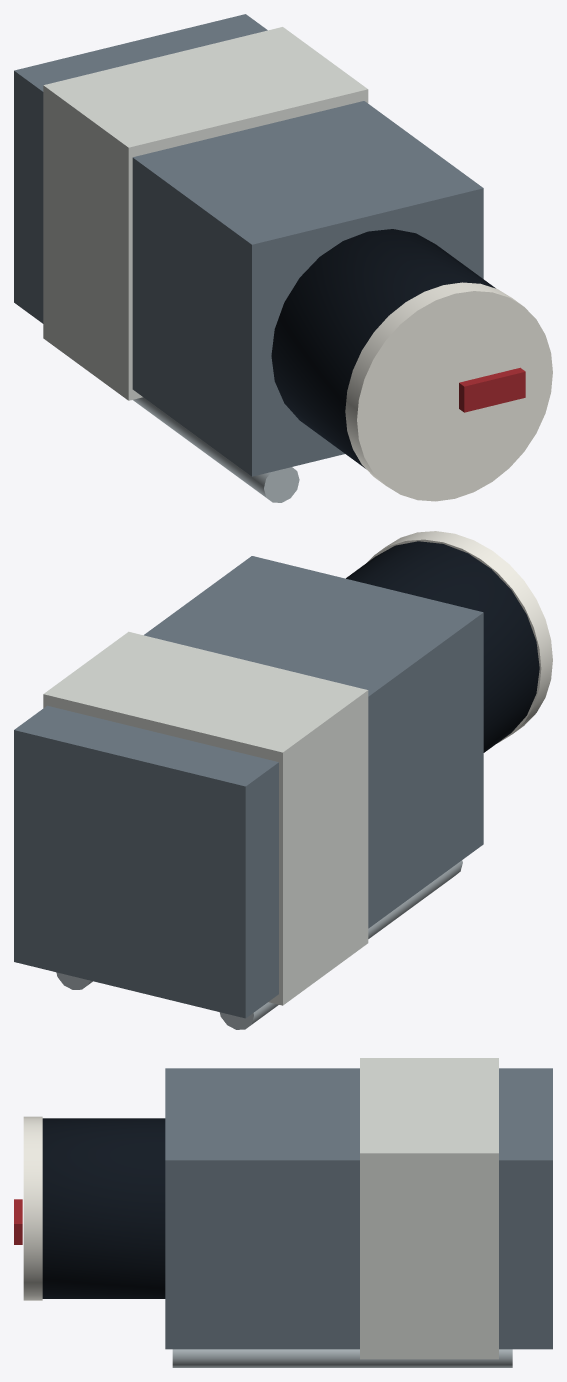
The model's file is dart_draco_camera.glb.
3 views of the same model, one above another, from view 1: azimuth 30°, elevation 25°; view 2: azimuth 150°, elevation 25°; view 3: azimuth 270°, elevation 25° (orthographic). The views are drawn at different scales.
Parts seen in each view (by area): view 1: dart_dracomesh_Machined_steel, dart_dracomesh_Pale_thermal_blanket, dart_dracocovermesh_Warm_white_enamel, dart_dracotelescopemesh_Shadowed_interior, dart_dracomesh_Satin_aluminum, dart_dracocovermesh_Red_equipment_marking; view 2: dart_dracomesh_Machined_steel, dart_dracomesh_Pale_thermal_blanket, dart_dracotelescopemesh_Shadowed_interior, dart_dracocovermesh_Warm_white_enamel, dart_dracomesh_Satin_aluminum; view 3: dart_dracomesh_Machined_steel, dart_dracomesh_Pale_thermal_blanket, dart_dracotelescopemesh_Shadowed_interior, dart_dracomesh_Satin_aluminum, dart_dracocovermesh_Warm_white_enamel, dart_dracocovermesh_Red_equipment_marking.
Boxes of the visible parts, box(x1,y1,x2,y2) form: dart_dracomesh_Machined_steel: box(14, 14, 483, 476); dart_dracomesh_Pale_thermal_blanket: box(43, 27, 368, 400); dart_dracocovermesh_Warm_white_enamel: box(345, 282, 552, 501); dart_dracotelescopemesh_Shadowed_interior: box(271, 229, 495, 468); dart_dracomesh_Satin_aluminum: box(133, 397, 299, 502); dart_dracocovermesh_Red_equipment_marking: box(459, 367, 525, 412); dart_dracomesh_Machined_steel: box(14, 556, 483, 1018); dart_dracomesh_Pale_thermal_blanket: box(43, 631, 368, 1005); dart_dracotelescopemesh_Shadowed_interior: box(346, 541, 539, 752); dart_dracocovermesh_Warm_white_enamel: box(367, 531, 552, 743); dart_dracomesh_Satin_aluminum: box(56, 860, 462, 1029); dart_dracomesh_Machined_steel: box(165, 1068, 552, 1349); dart_dracomesh_Pale_thermal_blanket: box(360, 1058, 498, 1359); dart_dracotelescopemesh_Shadowed_interior: box(42, 1118, 165, 1298); dart_dracomesh_Satin_aluminum: box(172, 1349, 512, 1367); dart_dracocovermesh_Warm_white_enamel: box(23, 1116, 42, 1300); dart_dracocovermesh_Red_equipment_marking: box(14, 1199, 22, 1244).
Size of the model in its own units: 0.308 by 0.3445 by 0.737.
